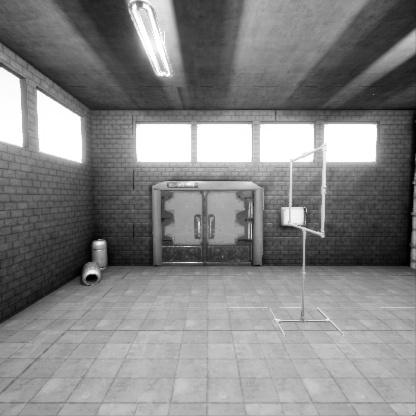gate: (289, 182, 327, 275)
